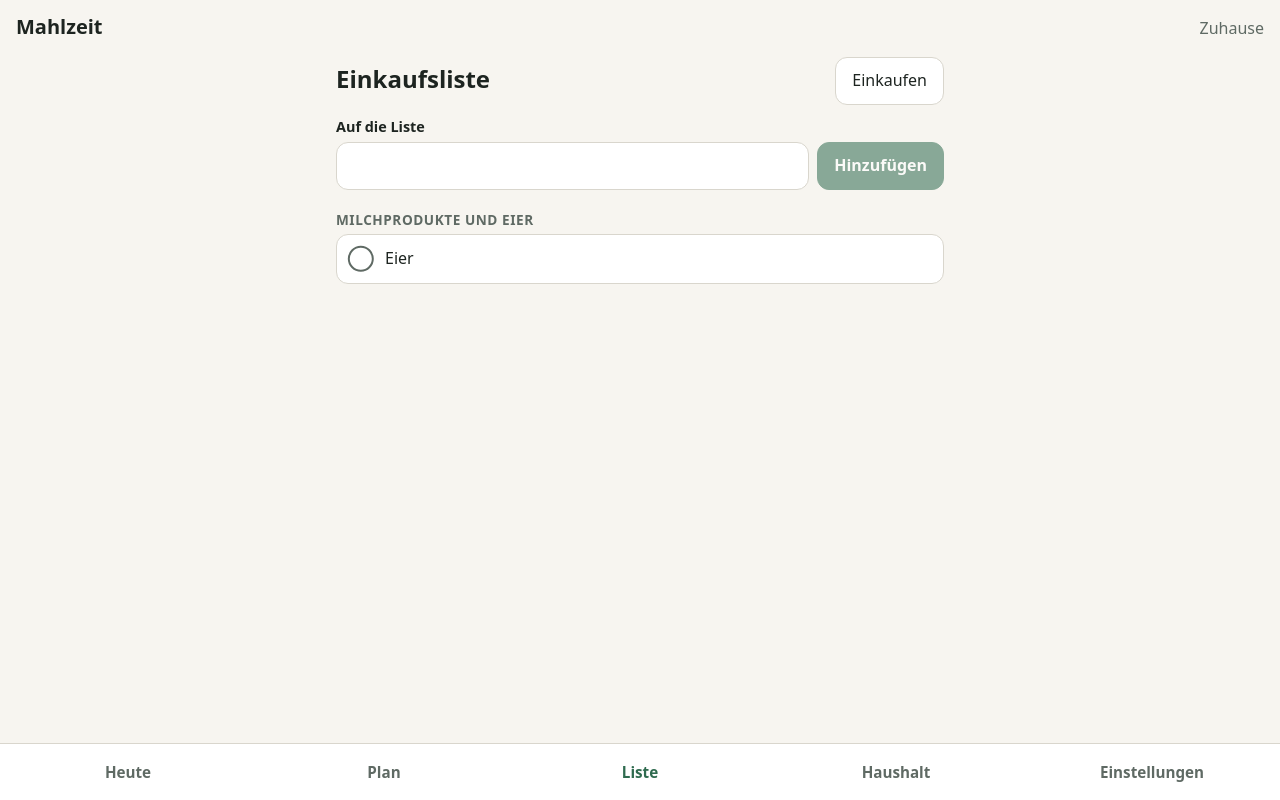
Test: shopping list › edits quantity and store in the item sheet
Click the button "Eier" at (399, 258), box [385, 235, 943, 283]
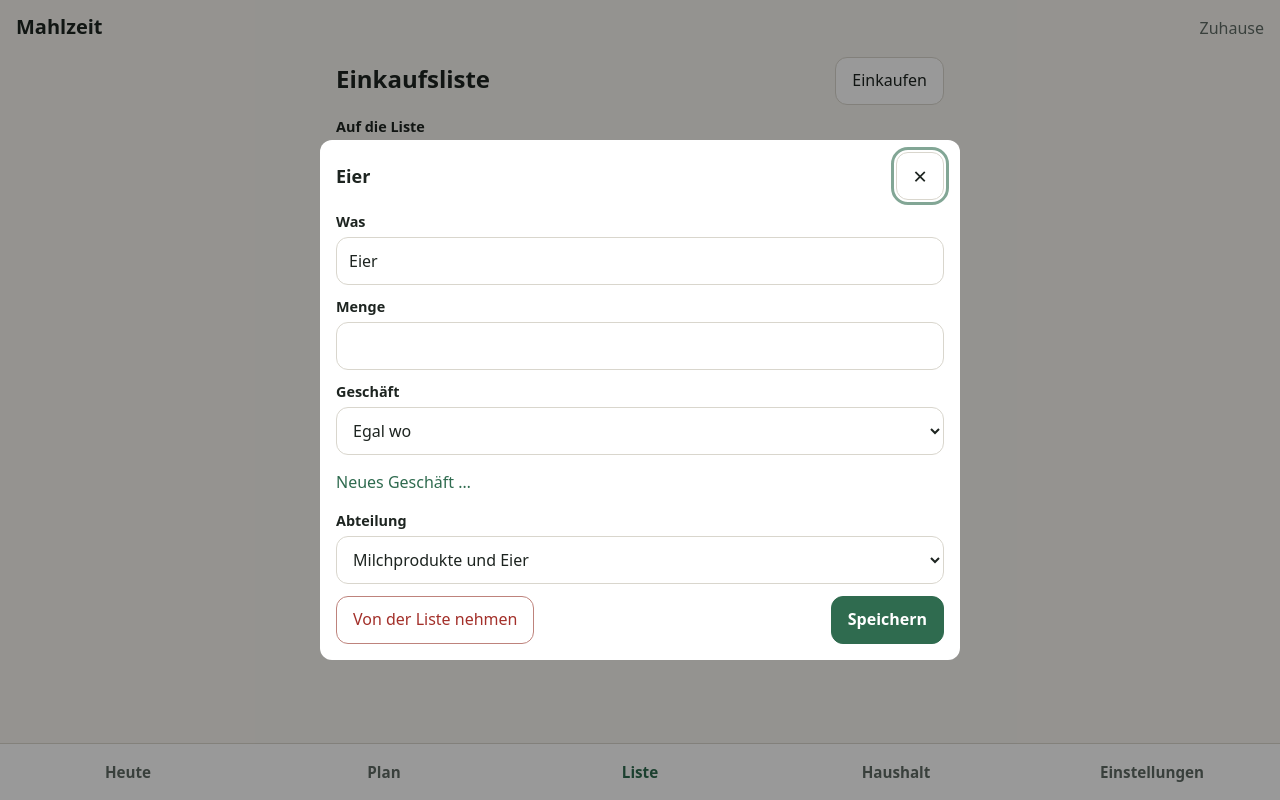
Type "10" into the field labelled "Menge" at (640, 346), box [336, 322, 944, 370]
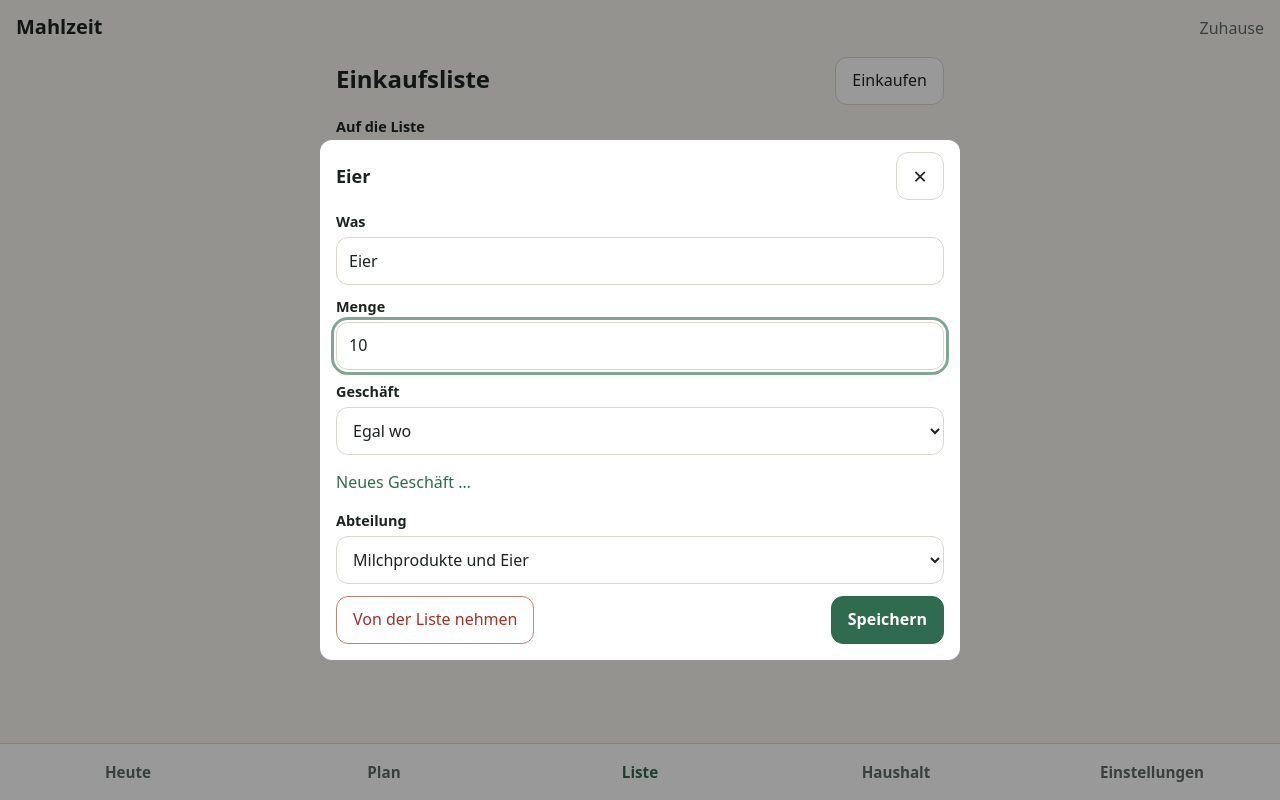
Select "ALDI" in the dropdown labelled "Geschäft" at (640, 431), box [336, 407, 944, 455]
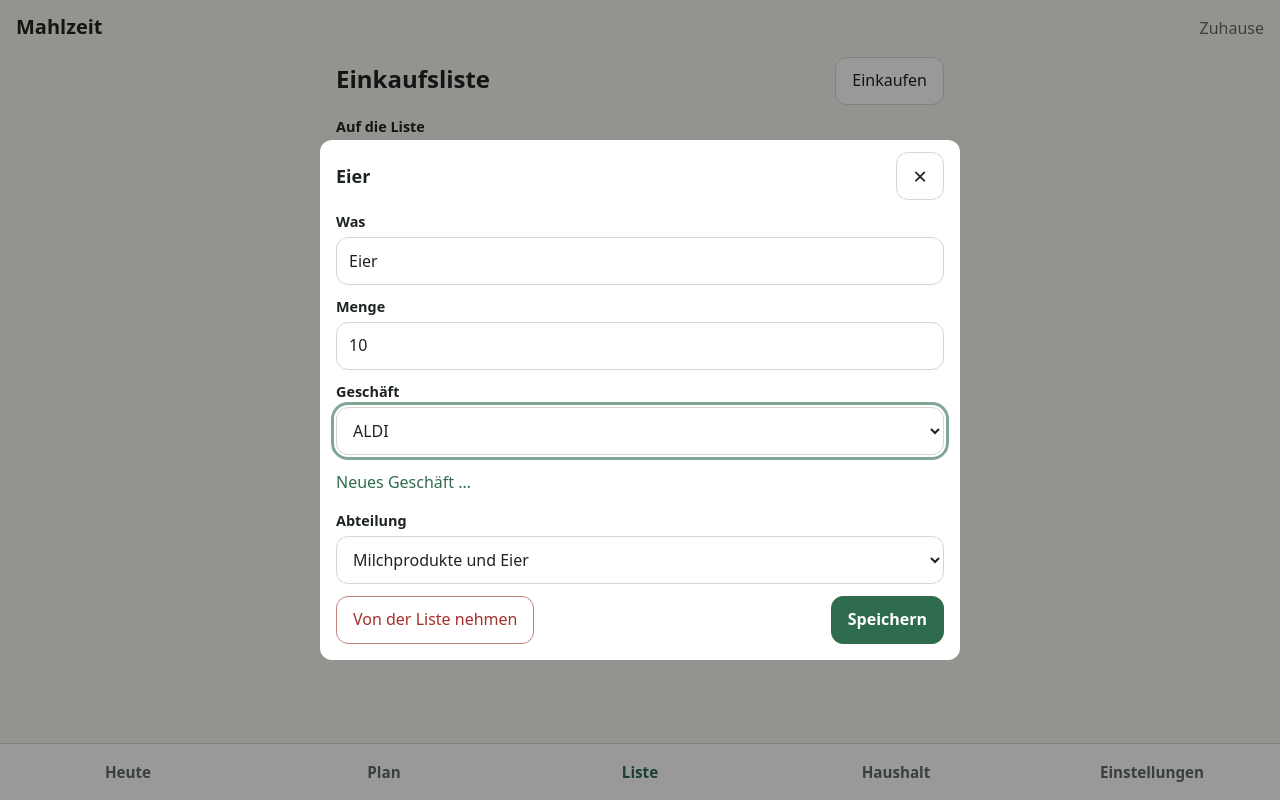
Click the button "Speichern" at (887, 620), box [831, 596, 944, 644]
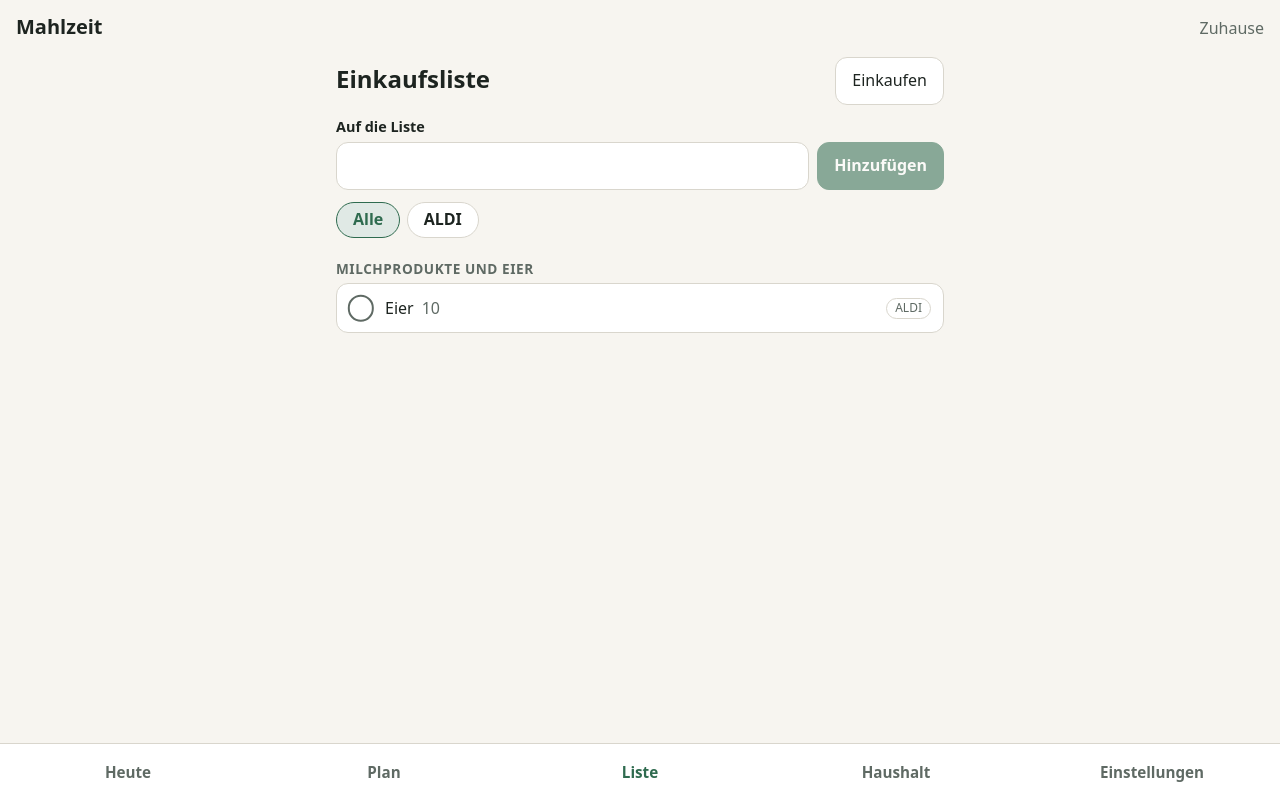
Now the button "ALDI" is shown, box [407, 202, 479, 238]
